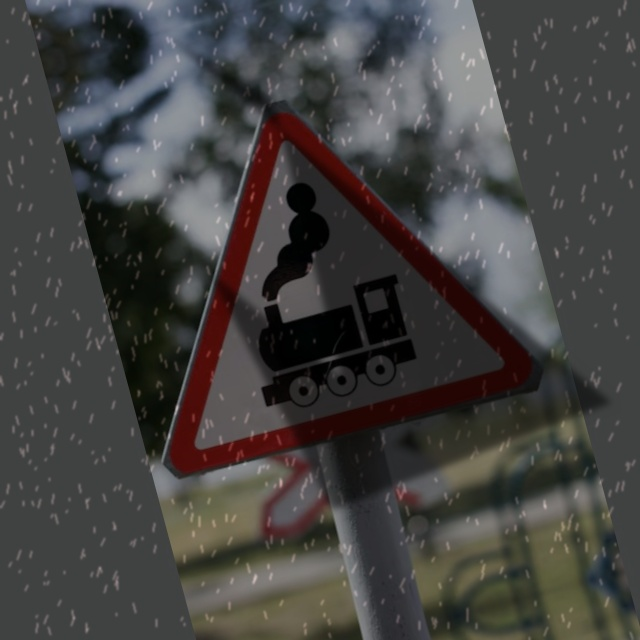Unguarded_Level_Crossing: (96, 49, 538, 483)
